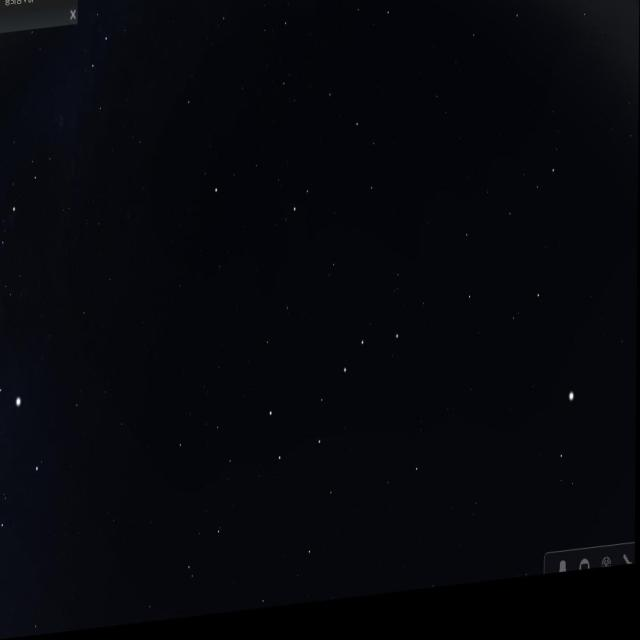cassiopeia: (72, 0, 142, 140)
ursa_major: (263, 327, 403, 486)
